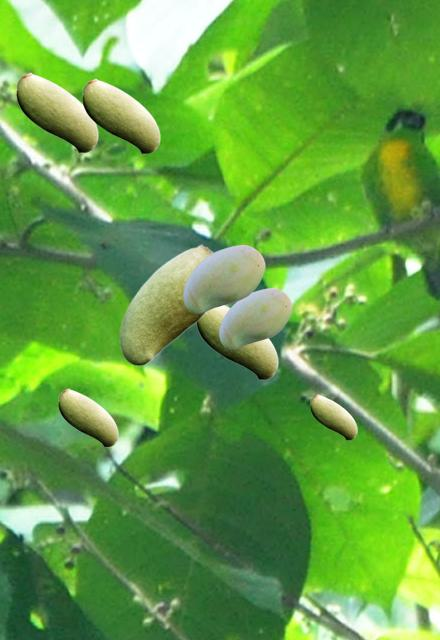green_mango: (119, 244, 214, 364), (16, 72, 97, 152), (196, 306, 277, 379), (82, 78, 159, 153), (183, 245, 264, 312), (219, 288, 291, 348), (58, 388, 117, 446), (310, 394, 356, 439)
